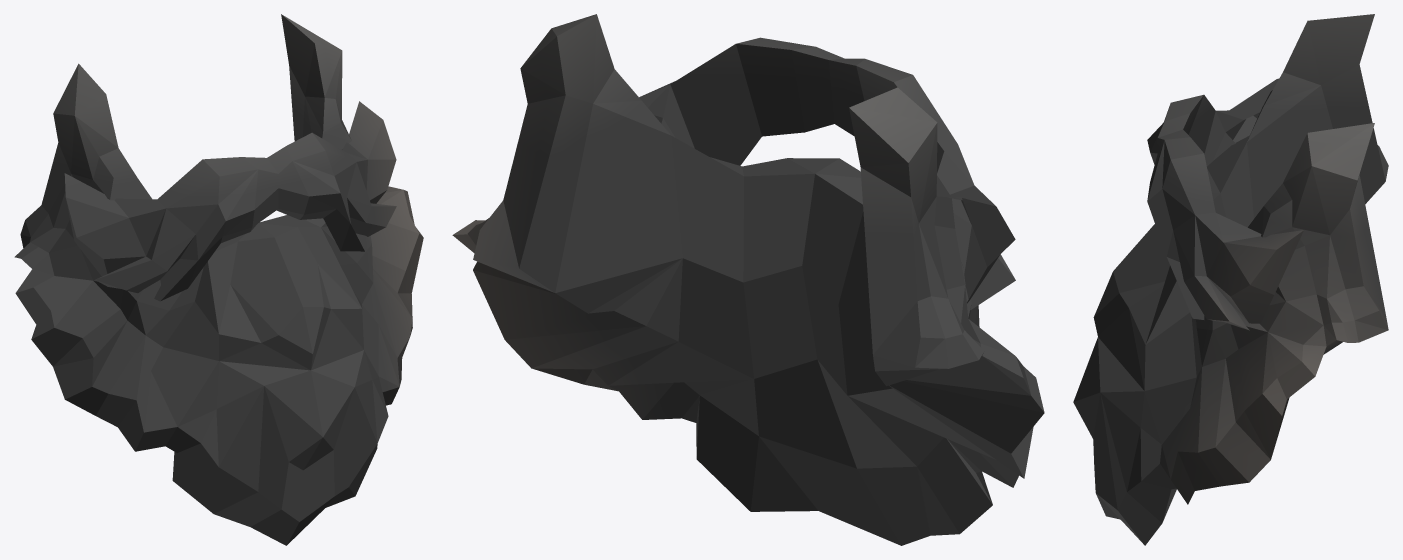
Rendered from SM_Chr_Attach_Dwarf_Beard_02.fbx.
3 renders of one model, left to right at view 1: azimuth 30°, elevation 25°; view 2: azimuth 150°, elevation 25°; view 3: azimuth 270°, elevation 25°, orthographic. The views are drawn at different scales.
Parts seen in each view (by area): view 1: SM_Chr_Attach_Dwarf_Beard_02; view 2: SM_Chr_Attach_Dwarf_Beard_02; view 3: SM_Chr_Attach_Dwarf_Beard_02.
Boxes of the visible parts, left/top/right/bottom form: SM_Chr_Attach_Dwarf_Beard_02: left=14, top=14, right=423, bottom=545; SM_Chr_Attach_Dwarf_Beard_02: left=452, top=14, right=1044, bottom=545; SM_Chr_Attach_Dwarf_Beard_02: left=1073, top=14, right=1388, bottom=545.
Bounding box in the file's own units: 52.33 × 52.41 × 32.84.
